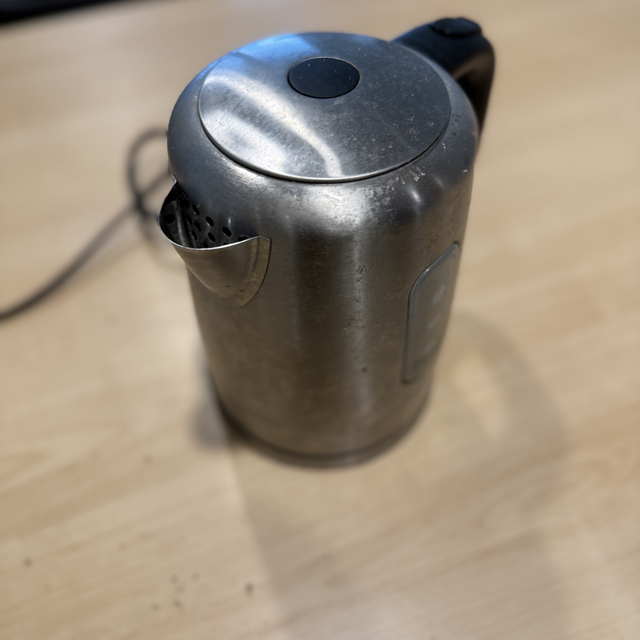Kettle: (138, 37, 505, 528)
